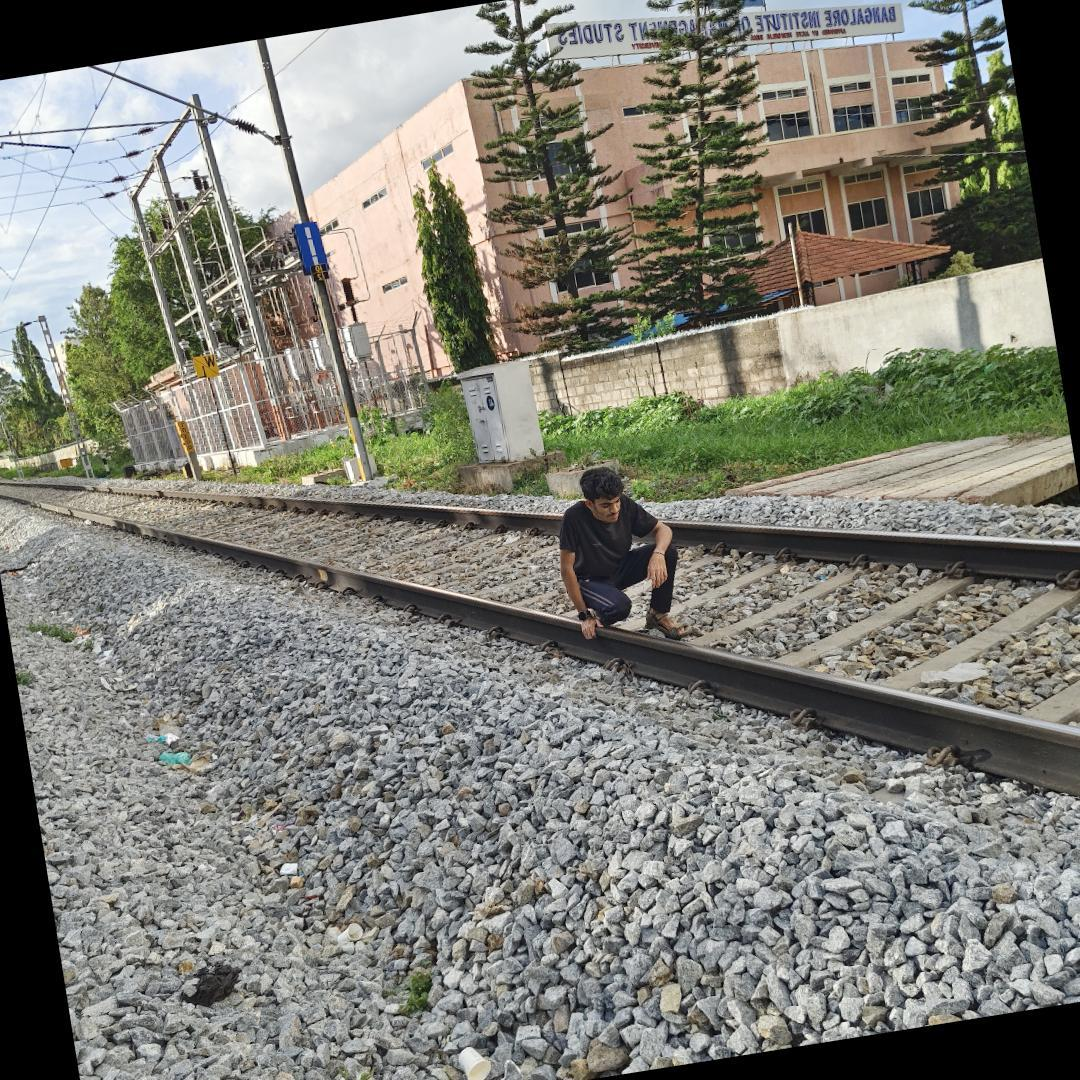sitting: (533, 450, 691, 658)
